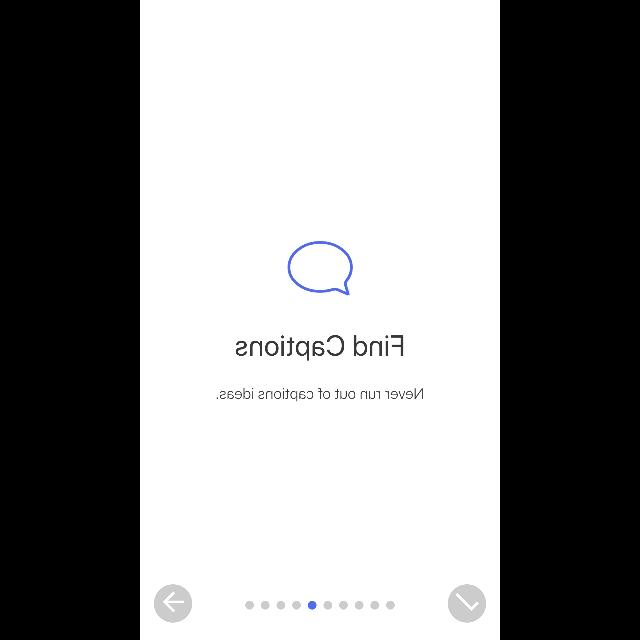icon: (288, 241, 352, 295), (154, 584, 192, 622), (448, 584, 486, 622)
pageindicator: (246, 601, 394, 609)
text: (236, 336, 404, 360), (217, 388, 423, 402)
